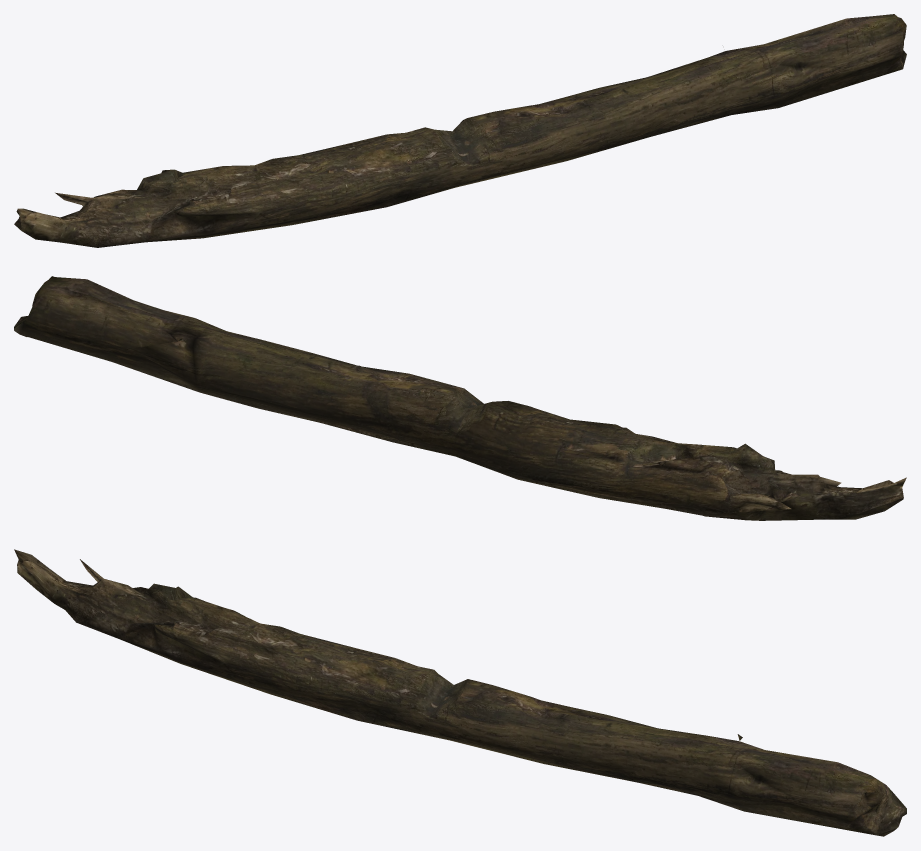
File: dead_tree_trunk.glb
3 renders of one model, top to bottom at view 1: azimuth 30°, elevation 25°; view 2: azimuth 150°, elevation 25°; view 3: azimuth 330°, elevation 25°, orthographic.
Visible parts, largest first — view 1: dead_tree_trunk; view 2: dead_tree_trunk; view 3: dead_tree_trunk.
Part boxes in pixels (left/top/right/bottom): dead_tree_trunk: left=14, top=14, right=906, bottom=247; dead_tree_trunk: left=14, top=276, right=906, bottom=520; dead_tree_trunk: left=14, top=549, right=906, bottom=836.
Bounding box in the file's own units: 3.04 × 0.2869 × 0.2689.
1 material, 1 textured.
